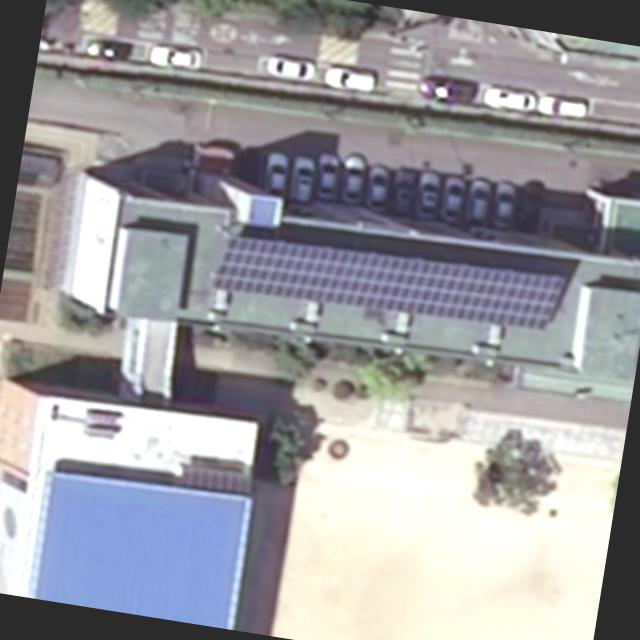solar: (210, 222, 570, 346)
